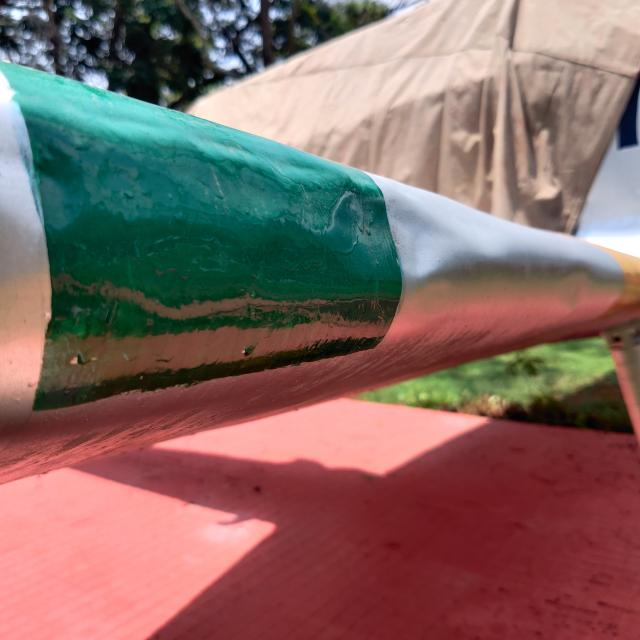dent: (331, 173, 484, 303), (0, 122, 115, 258)
